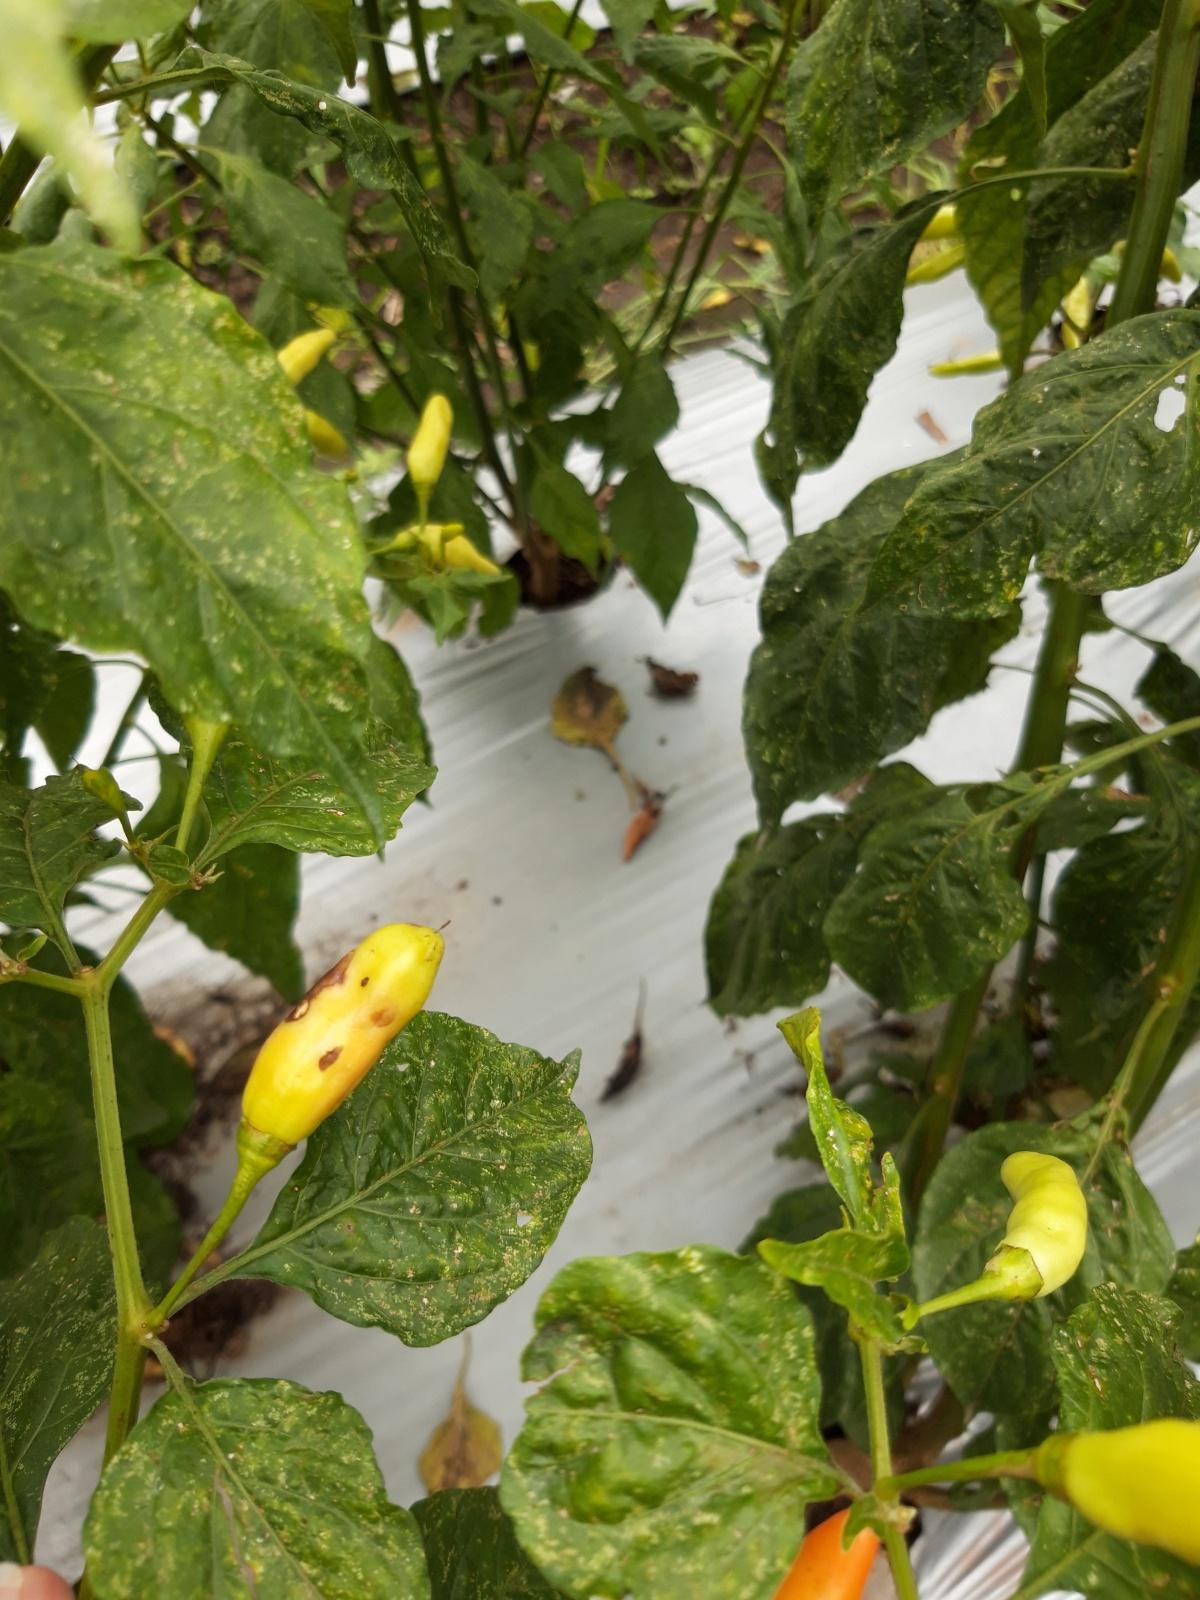cabai_normal: (1036, 1415, 1200, 1563), (984, 1149, 1085, 1300), (407, 393, 455, 498)
lalat_buah: (239, 923, 446, 1174)
